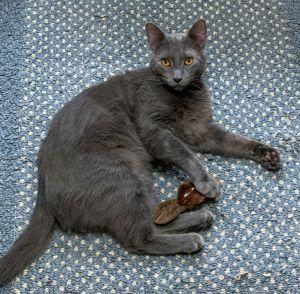rblue: (131, 4, 215, 94)
